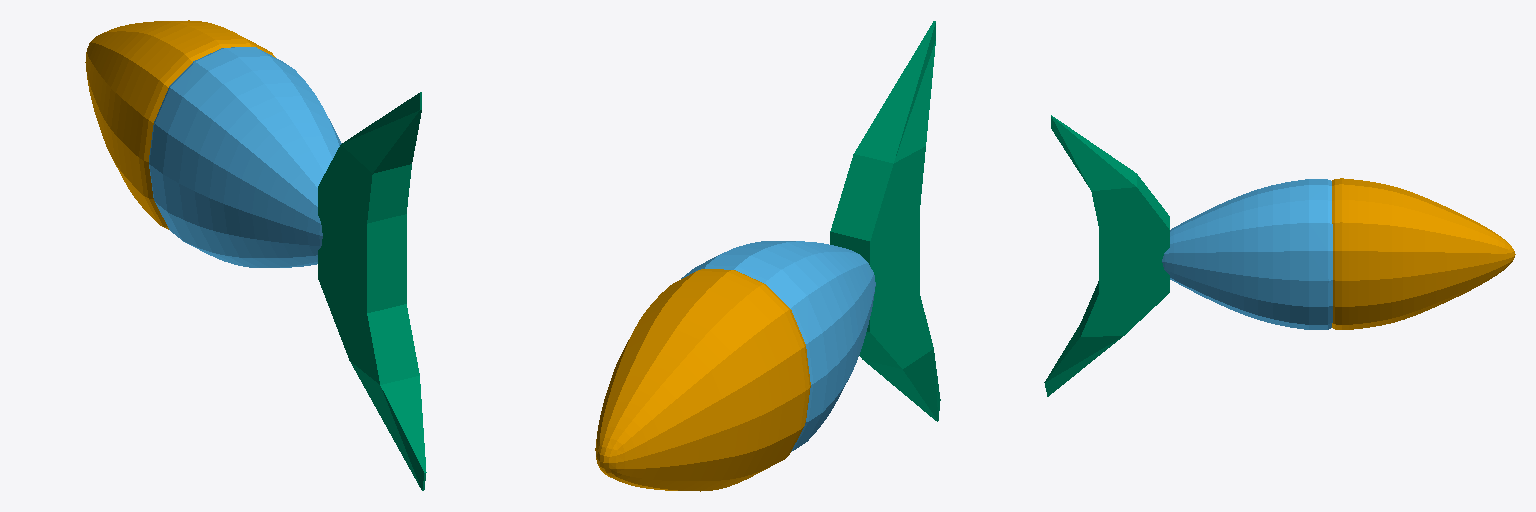
URDF robot description (fish2):
<?xml version="1.0" ?>
<!-- =================================================================================== -->
<!-- |    This document was autogenerated by xacro from Fish2.xacro                    | -->
<!-- |    EDITING THIS FILE BY HAND IS NOT RECOMMENDED                                 | -->
<!-- =================================================================================== -->
<robot name="fish2" xmlns:xacro="http://www.ros.org/wiki/xacro">
  <link name="base_link">
    <visual>
      <origin rpy="0 0 0" xyz="0 0 0"/>
      <geometry>
        <mesh filename="package://uwsim_models/uwsim_fish_urdf/Fish_models/Fish2_1.dae"/>
      </geometry>
    </visual>
  </link>
  <link name="body">
    <visual>
      <origin rpy="0 0 0" xyz="0 0 0"/>
      <geometry>
        <mesh filename="package://uwsim_models/uwsim_fish_urdf/Fish_models/Fish2_2.dae"/>
      </geometry>
    </visual>
  </link>
  <joint name="Slew" type="revolute">
    <parent link="base_link"/>
    <child link="body"/>
    <axis xyz="0 0 1"/>
    <origin rpy="0 0 0" xyz="0 -2.01 0"/>
    <limit effort="1000.0" lower="-0.5" upper="0.5" velocity="1.0"/>
  </joint>
  <link name="tail">
    <visual>
      <origin rpy="0 0 0" xyz="0 0 0"/>
      <geometry>
        <mesh filename="package://uwsim_models/uwsim_fish_urdf/Fish_models/Fish2_Tail.dae"/>
      </geometry>
    </visual>
  </link>
  <joint name="Shoulder" type="revolute">
    <parent link="body"/>
    <child link="tail"/>
    <axis xyz="0 0 1"/>
    <!--origin rpy="0 0 0" xyz="2.5 0 0"/-->
    <origin rpy="0 0 0" xyz="0 -2.5 0"/>
    <limit effort="1000.0" lower="-1" upper="1" velocity="1.0"/>
  </joint>
</robot>

--- Facts derived from the render (not from the file) ---
3 views of the same robot in one strip: view 1: azimuth 30°, elevation 25°; view 2: azimuth 150°, elevation 25°; view 3: azimuth 270°, elevation 25° (orthographic).
Robot: fish2 — 3 links, 2 joints (2 revolute); root link base_link; default pose: all joints at 0.
Links seen in each view (by area): view 1: body, tail, base_link; view 2: base_link, tail, body; view 3: body, base_link, tail.
Boxes of the visible links, x1,y1,x2,y2 form: body: (149, 47, 341, 267); tail: (318, 92, 426, 490); base_link: (85, 20, 275, 229); base_link: (595, 269, 810, 491); tail: (830, 21, 940, 421); body: (681, 241, 875, 451); body: (1162, 179, 1332, 329); base_link: (1332, 178, 1515, 329); tail: (1044, 115, 1169, 396).
Size in the robot's own frame: 1.52 by 5.69 by 3.76 metres.
Meshes: 3 distinct files referenced, 3 mesh visuals loaded (3 Collada DAE).